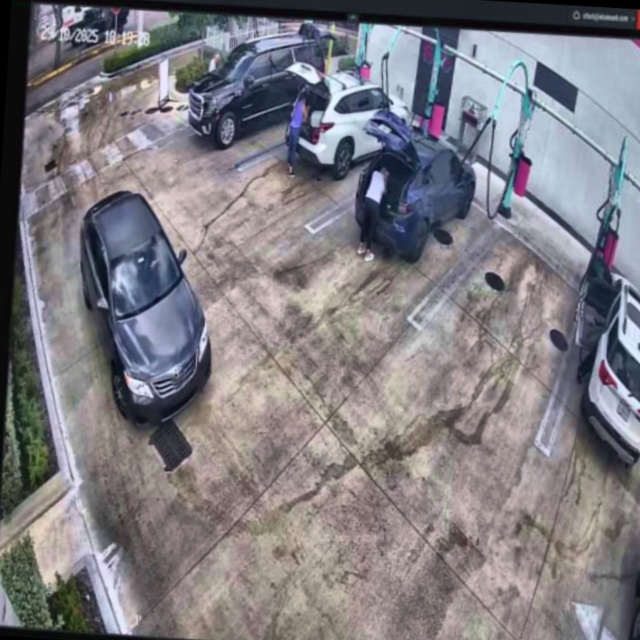Car: (65, 184, 227, 431), (349, 108, 484, 267), (281, 58, 414, 179)
